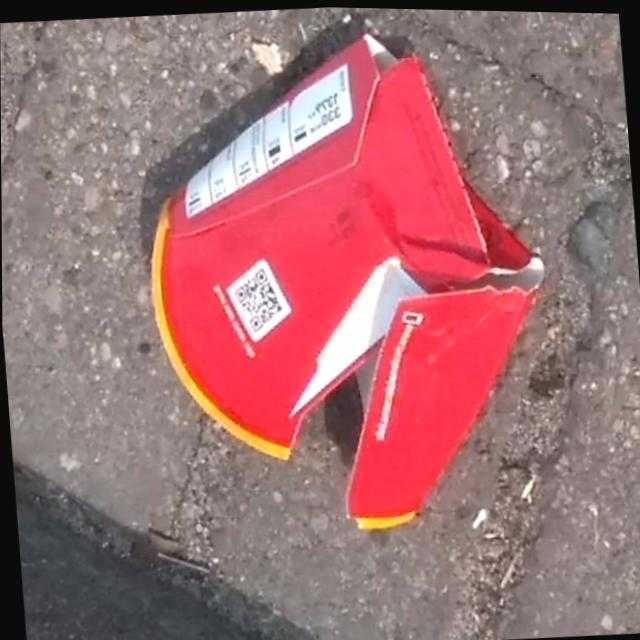Paper: (128, 12, 568, 545)
